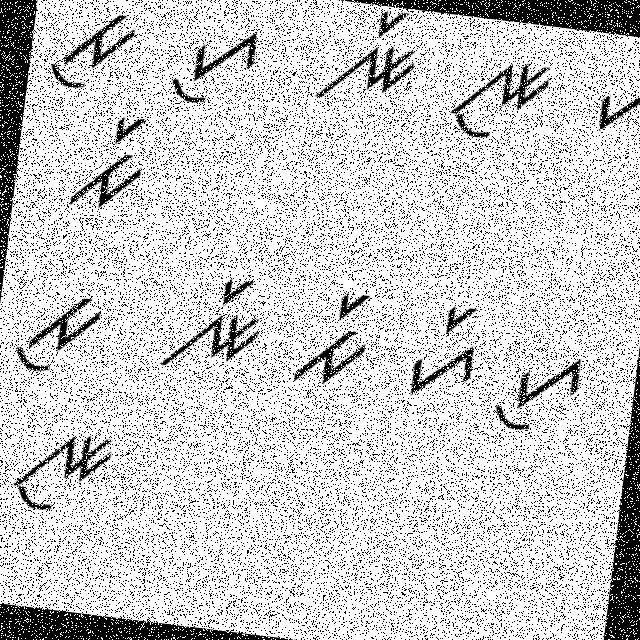ha: (587, 63, 639, 147)
har: (390, 292, 488, 404)
haw: (486, 342, 587, 442), (164, 14, 263, 114)
mbar: (61, 106, 158, 220), (281, 282, 374, 394)
mbaw: (0, 282, 108, 388), (40, 0, 146, 98)
ndar: (149, 260, 273, 379), (305, 1, 428, 117)
ndaw: (0, 420, 124, 528), (438, 46, 559, 155)
